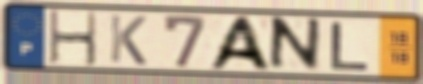7: (160, 13, 208, 70)
A: (203, 15, 275, 73)
H: (47, 9, 100, 68)
K: (107, 12, 149, 67)
L: (328, 20, 373, 72)
N: (266, 15, 324, 73)
